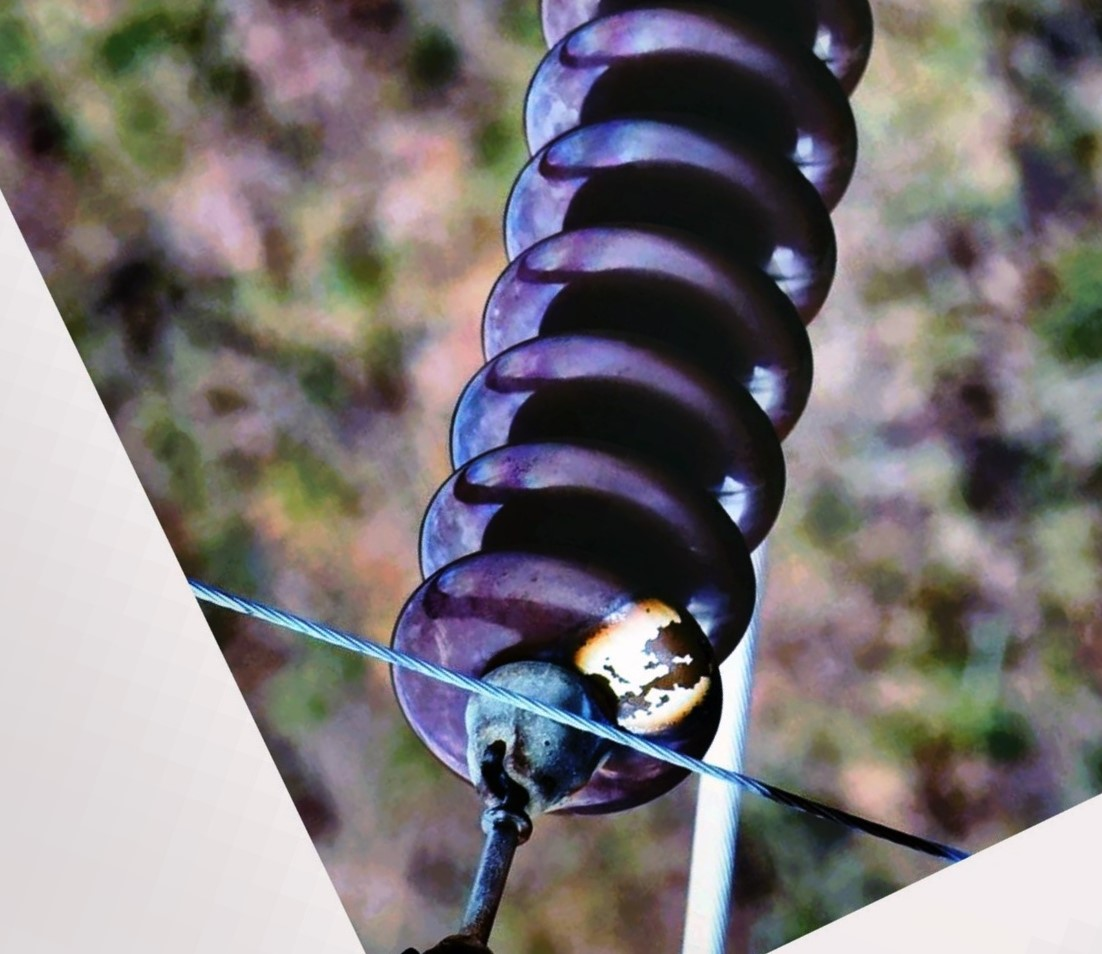Insulator flashover: (367, 536, 727, 818)
